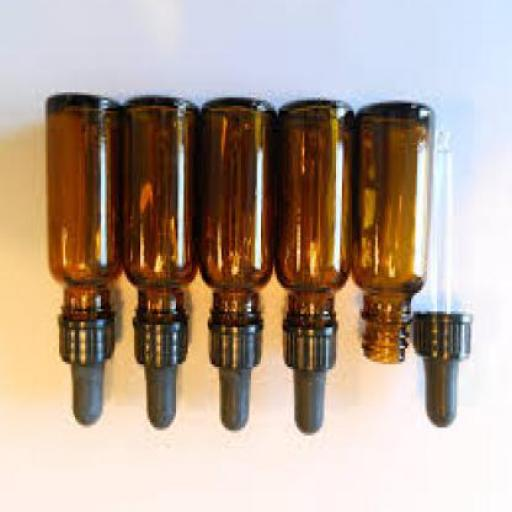glass: (350, 106, 430, 364), (273, 104, 352, 328), (198, 100, 272, 327), (46, 100, 120, 322), (122, 103, 196, 322), (427, 127, 454, 314)
plastic: (412, 317, 468, 430), (131, 322, 188, 432), (56, 322, 114, 428), (205, 324, 261, 433), (280, 325, 334, 438)
